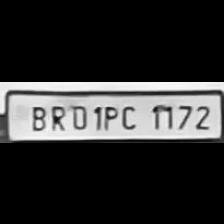1: (142, 102, 162, 127), (92, 101, 104, 129), (160, 101, 172, 128)
2: (190, 100, 212, 130)
7: (172, 100, 192, 128)
B: (26, 100, 48, 130)
C: (117, 100, 141, 130)
D: (67, 100, 91, 128)
P: (102, 101, 118, 128)
R: (47, 100, 66, 130)
